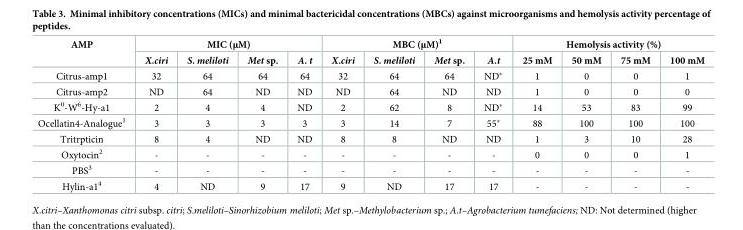table: (37, 37, 703, 191)
table column: (37, 37, 134, 191), (176, 37, 237, 191), (363, 37, 423, 191), (423, 37, 473, 191), (511, 37, 561, 191), (237, 37, 286, 191), (561, 37, 610, 191), (610, 37, 659, 191), (659, 37, 703, 191), (134, 37, 176, 191), (321, 37, 363, 191), (473, 37, 511, 191), (286, 37, 321, 191)
table column header: (37, 37, 703, 67)
table row: (37, 67, 703, 84), (37, 114, 703, 131), (37, 51, 703, 67), (37, 98, 703, 114), (37, 145, 703, 161), (37, 161, 703, 177), (37, 37, 703, 51), (37, 84, 703, 98), (37, 131, 703, 145), (37, 177, 703, 191)
table spanning cell: (37, 37, 134, 67), (511, 37, 703, 51), (321, 37, 511, 51), (134, 37, 321, 51)
